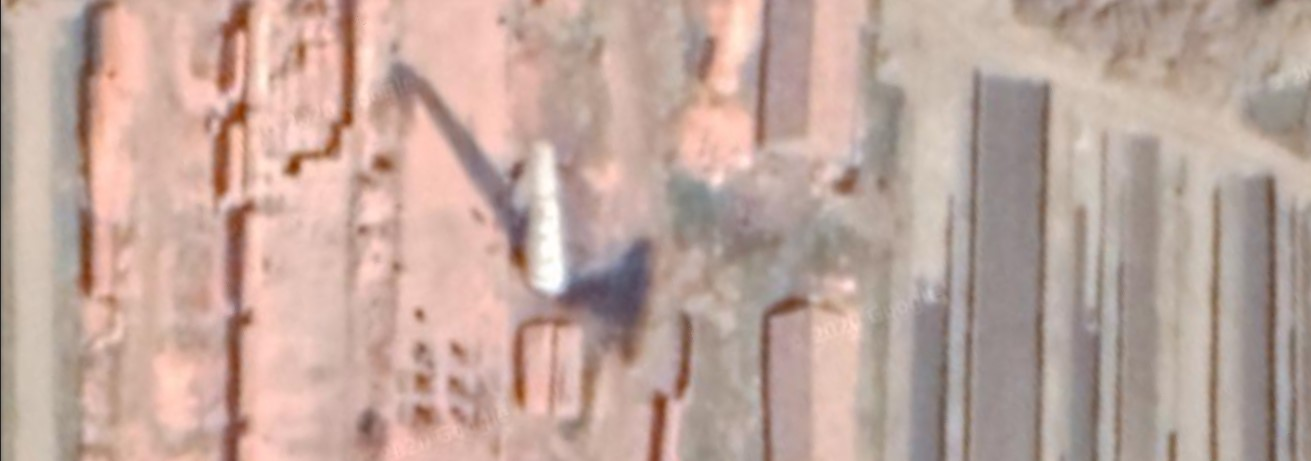kiln: (371, 12, 614, 456)
